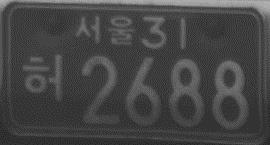1: (177, 16, 189, 51)
2: (80, 54, 123, 127)
3: (140, 14, 168, 50)
6: (125, 55, 164, 128)
8: (210, 59, 252, 131), (166, 56, 207, 129)
서울_O: (75, 14, 137, 47)
허: (20, 53, 63, 101)
